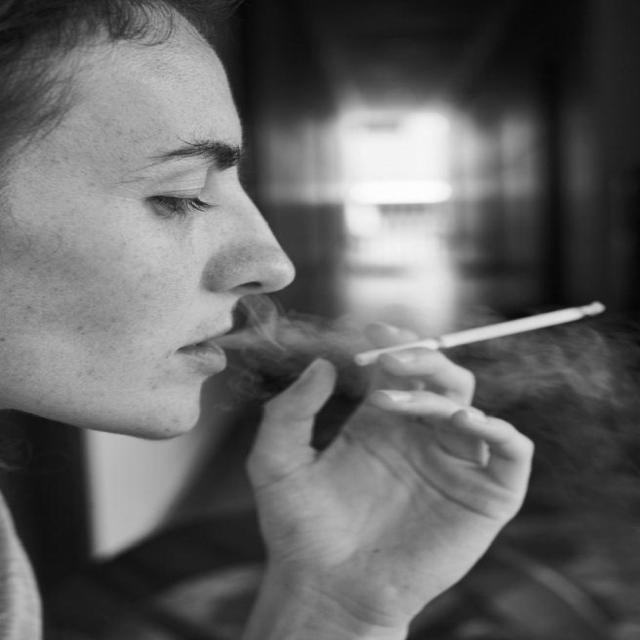smoke: (340, 294, 618, 375)
